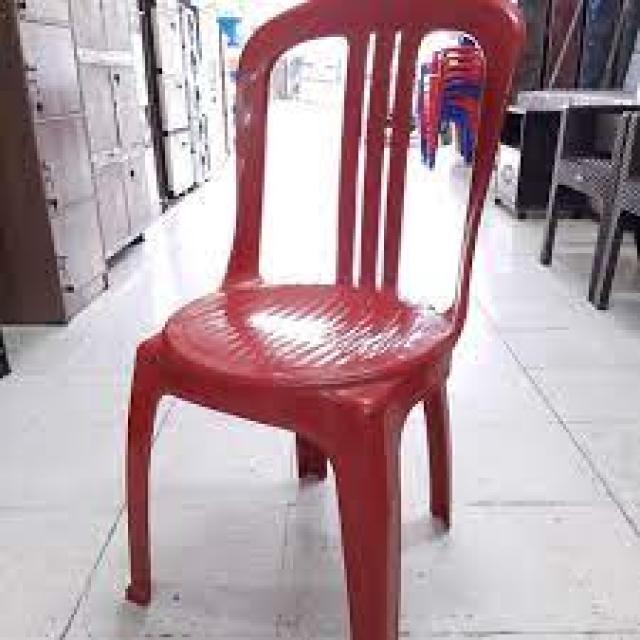chair: (120, 0, 526, 640)
